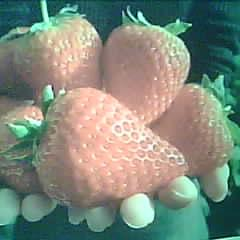straw-ripe: (37, 89, 187, 208), (103, 24, 191, 131)
